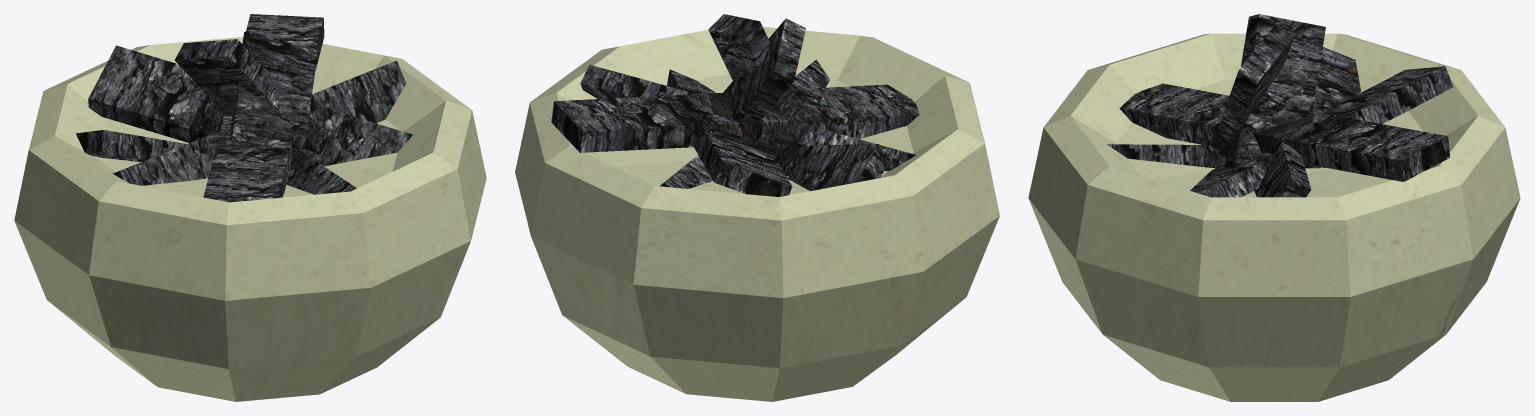
File: Small Fire Pot.fbx
3 views of the same model, side by side, from view 1: azimuth 30°, elevation 25°; view 2: azimuth 150°, elevation 25°; view 3: azimuth 270°, elevation 25° (orthographic). The views are drawn at different scales.
Parts seen in each view (by area): view 1: Small Fire Pot; view 2: Small Fire Pot; view 3: Small Fire Pot.
Boxes of the visible parts, x1,y1,x2,y2 form: Small Fire Pot: [14, 14, 486, 401]; Small Fire Pot: [515, 14, 999, 401]; Small Fire Pot: [1028, 14, 1520, 401].
Bounding box in the file's own units: 59.73 × 45.21 × 62.81.
